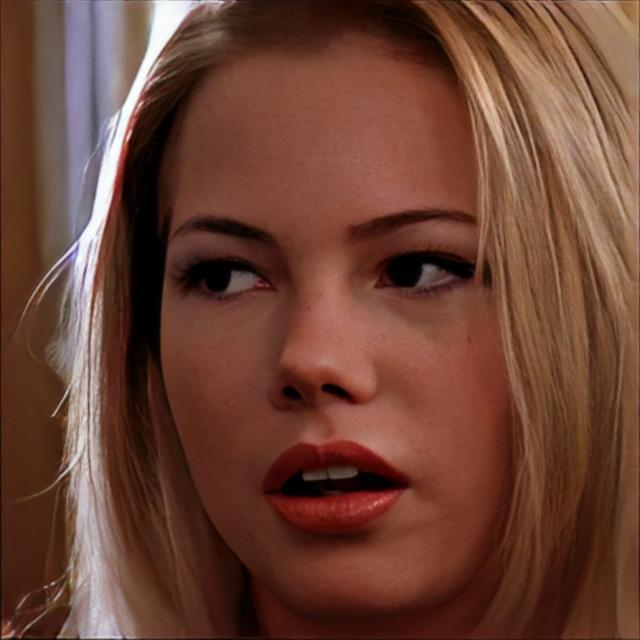surprise: (159, 24, 536, 615)
